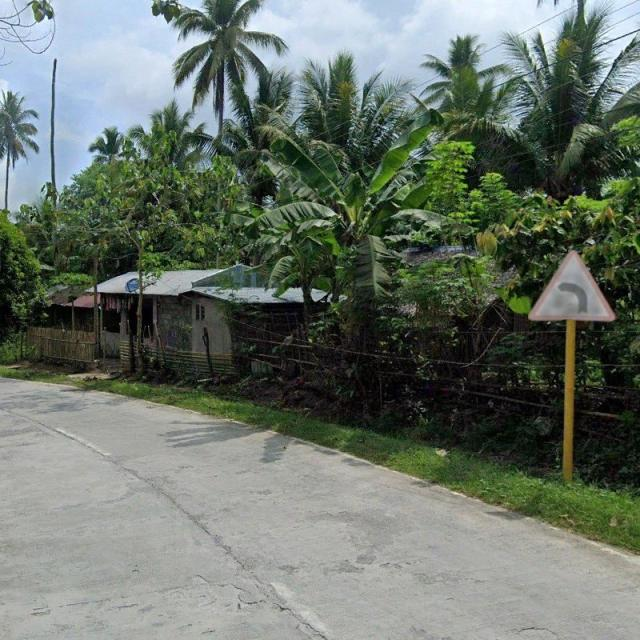warn_left_curve: (527, 249, 616, 322)
